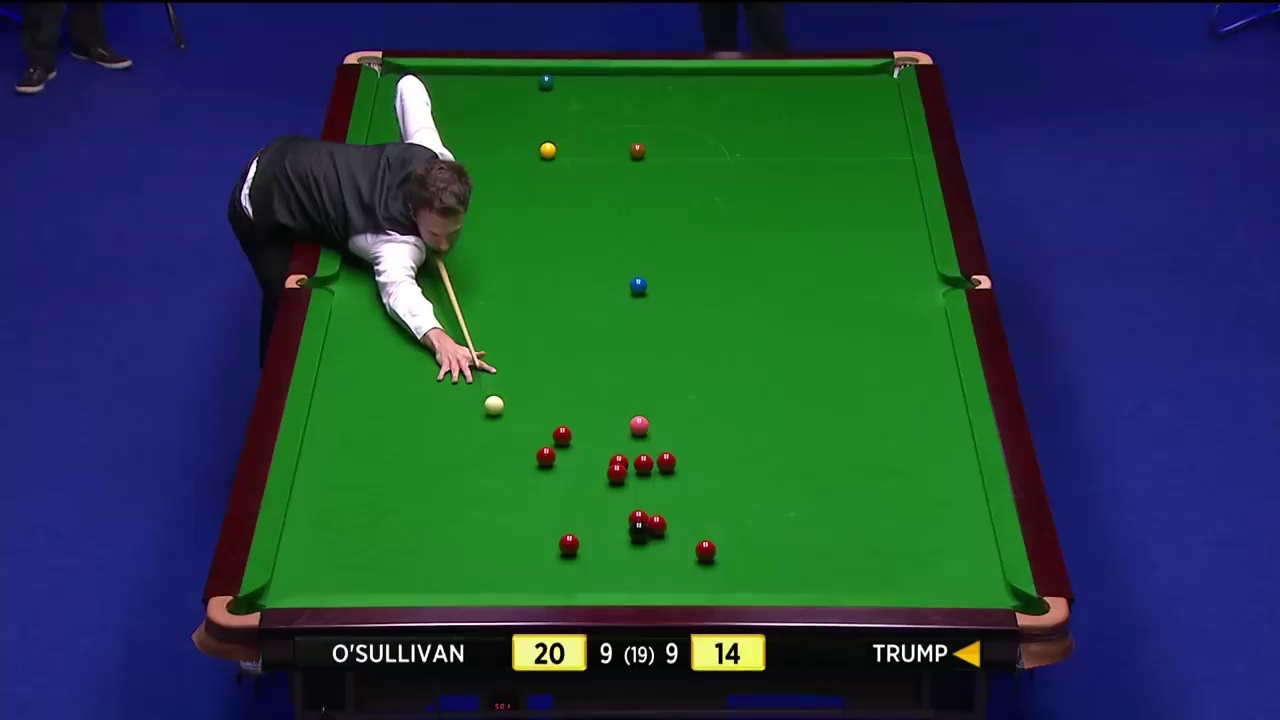ball: (625, 273, 649, 301), (484, 393, 508, 420), (626, 409, 648, 437), (533, 442, 555, 469), (655, 451, 680, 474), (624, 139, 646, 160), (696, 539, 716, 562), (560, 532, 579, 555), (536, 73, 557, 93), (633, 451, 652, 473), (538, 138, 557, 158)
